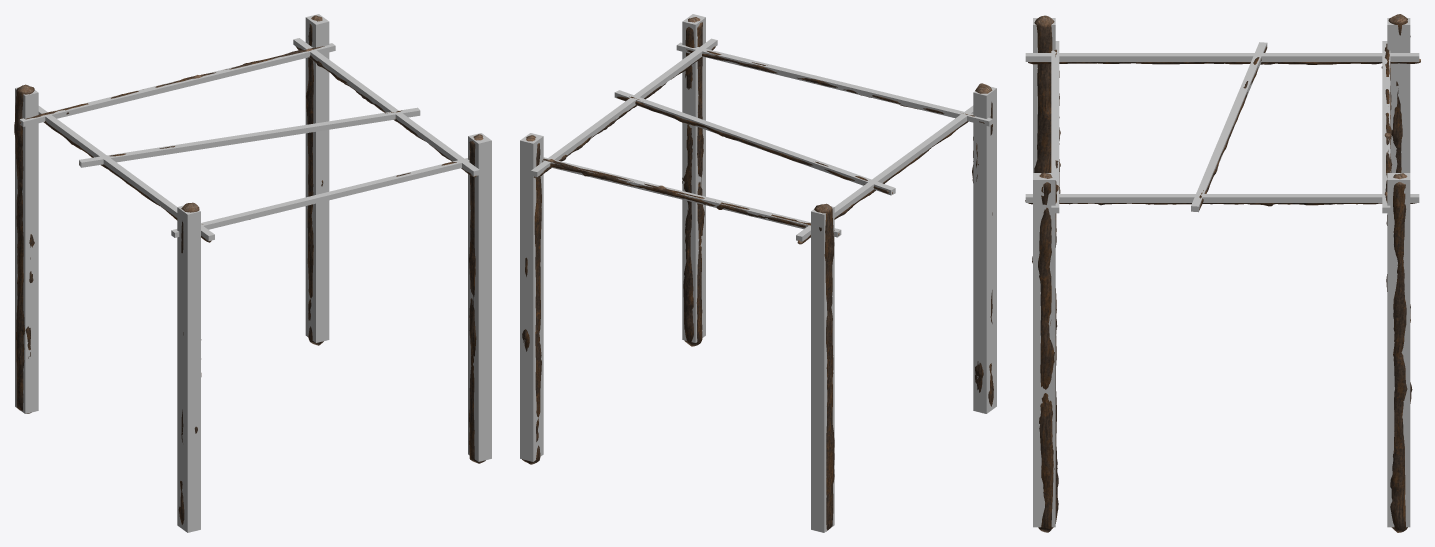
The model's file is SM_wood_frame_01.fbx.
The picture shows the model from 3 angles, left to right: view 1: azimuth 30°, elevation 25°; view 2: azimuth 150°, elevation 25°; view 3: azimuth 270°, elevation 25°; orthographic projection. The views are drawn at different scales.
Visible parts, largest first — view 1: SM_wood_frame_01_ConvexHulls, SM_wood_frame_01; view 2: SM_wood_frame_01_ConvexHulls, SM_wood_frame_01; view 3: SM_wood_frame_01_ConvexHulls, SM_wood_frame_01.
Part boxes in pixels (left/top/right/bottom): SM_wood_frame_01_ConvexHulls: left=15, top=14, right=491, bottom=532; SM_wood_frame_01: left=14, top=15, right=485, bottom=524; SM_wood_frame_01_ConvexHulls: left=520, top=14, right=996, bottom=532; SM_wood_frame_01: left=522, top=17, right=993, bottom=531; SM_wood_frame_01_ConvexHulls: left=1025, top=18, right=1419, bottom=527; SM_wood_frame_01: left=1025, top=14, right=1420, bottom=532.
Bounding box in the file's own units: 251 × 252 × 254.
Materials: 2 (1 with a texture image).
